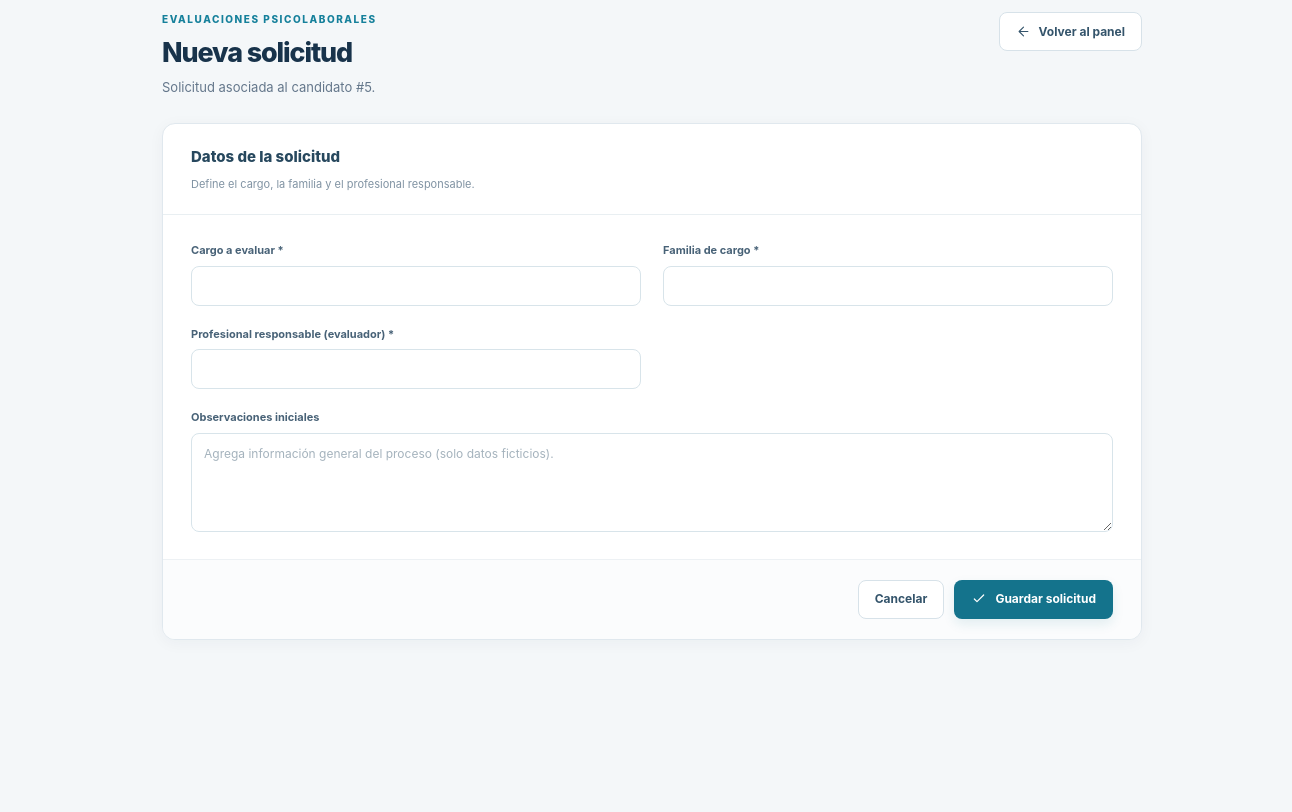
Test: Vista NuevaSolicitud › debe permitir cancelar y volver al panel principal
The image size is (1292, 812).
Click the button "Cancelar": point(901, 599) [858,580,944,619]
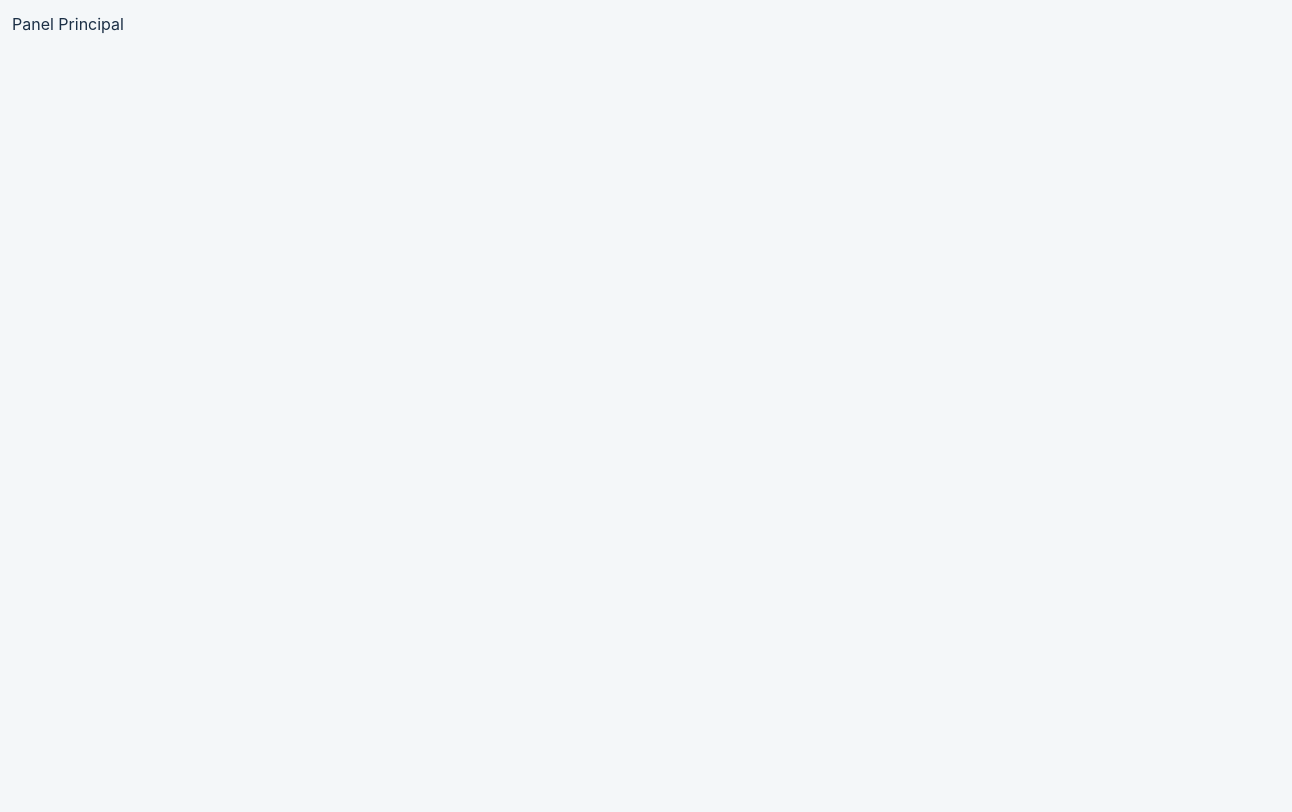
Check: the text "Panel Principal" is shown, box [12,14,124,34]
